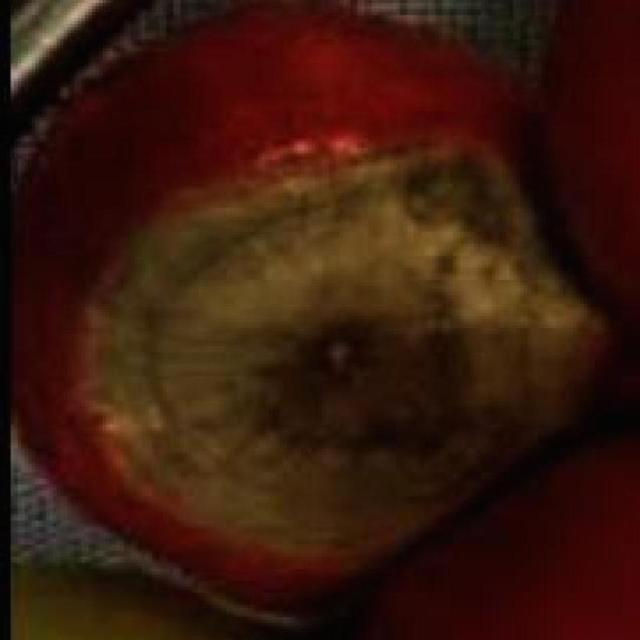Blossom End Rot Fruit: (56, 88, 411, 375)
